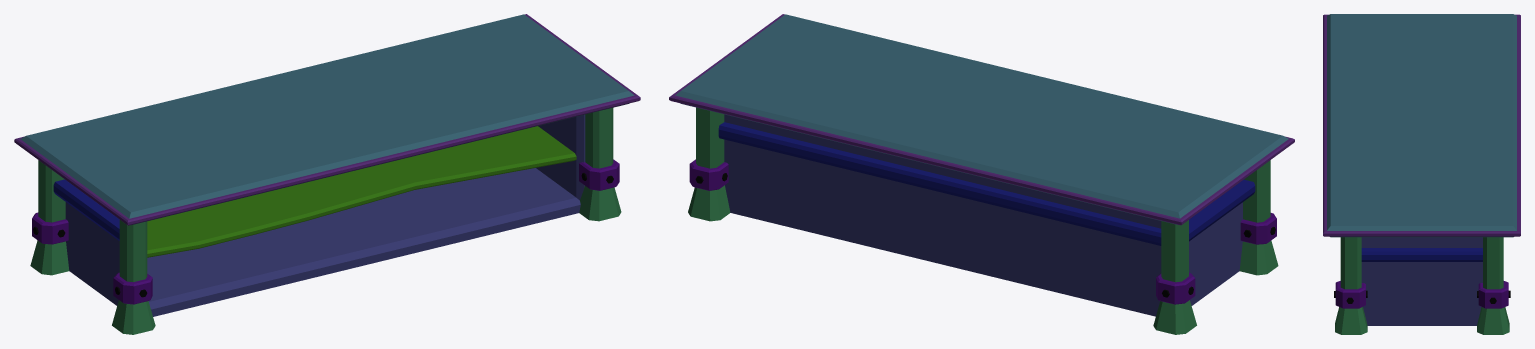
File: MESH_Counter.fbx
3 renders of one model, left to right at view 1: azimuth 30°, elevation 25°; view 2: azimuth 150°, elevation 25°; view 3: azimuth 270°, elevation 25°, orthographic. The views are drawn at different scales.
Visible parts, largest first — view 1: MESH_Counter; view 2: MESH_Counter; view 3: MESH_Counter.
Part boxes in pixels (bbox=[...]): MESH_Counter: bbox=[14, 14, 640, 334]; MESH_Counter: bbox=[669, 14, 1294, 334]; MESH_Counter: bbox=[1323, 14, 1520, 334].
Size of the model in its own units: 4.06 by 0.9489 by 1.55.
